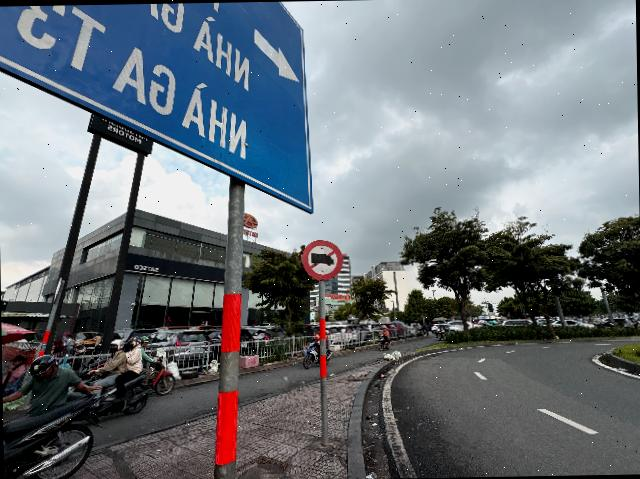cam-xe-tai: (302, 238, 343, 280)
